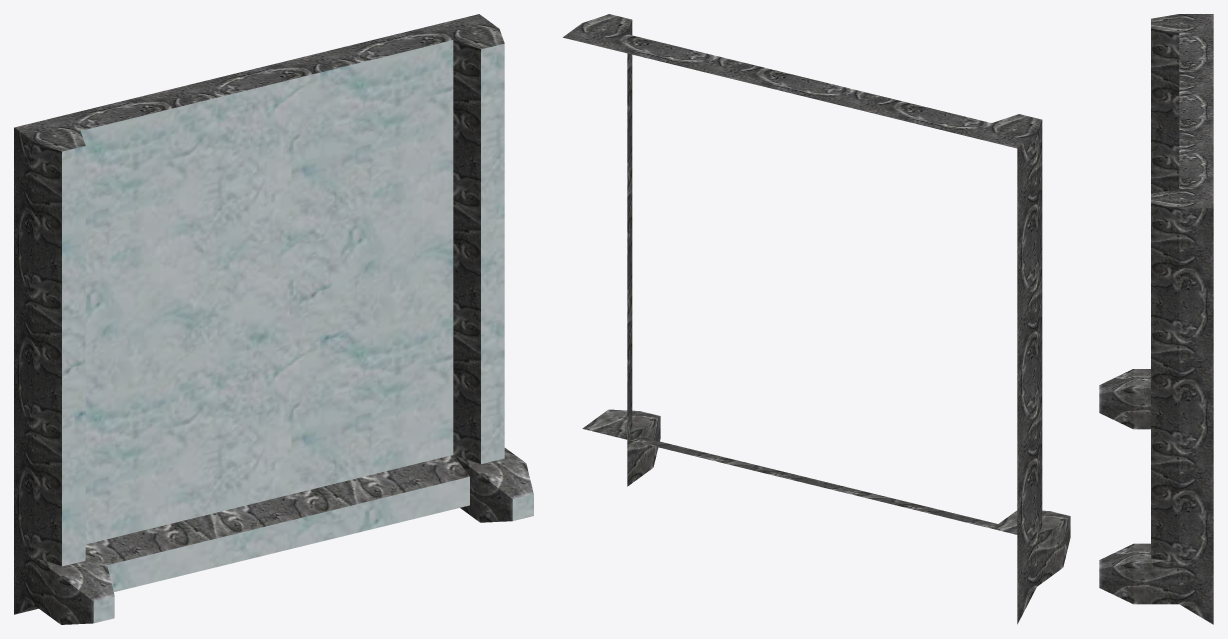
3 renders of one model, left to right at view 1: azimuth 30°, elevation 25°; view 2: azimuth 150°, elevation 25°; view 3: azimuth 270°, elevation 25°, orthographic. The views are drawn at different scales.
Visible parts, largest first — view 1: model_Object99; view 2: model_Object99; view 3: model_Object99.
Boxes of the visible parts, x1=… form: model_Object99: x1=14, y1=14, x2=533, y2=624; model_Object99: x1=563, y1=14, x2=1070, y2=624; model_Object99: x1=1099, y1=14, x2=1213, y2=624.
Size of the model in its own units: 4 by 4 by 0.997.
2 materials, 2 textured.
